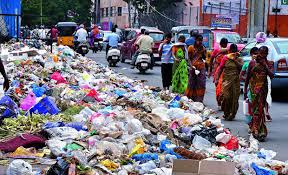garbage: (9, 62, 109, 175), (44, 82, 159, 175), (11, 48, 76, 175), (120, 104, 208, 175), (132, 138, 260, 175)
